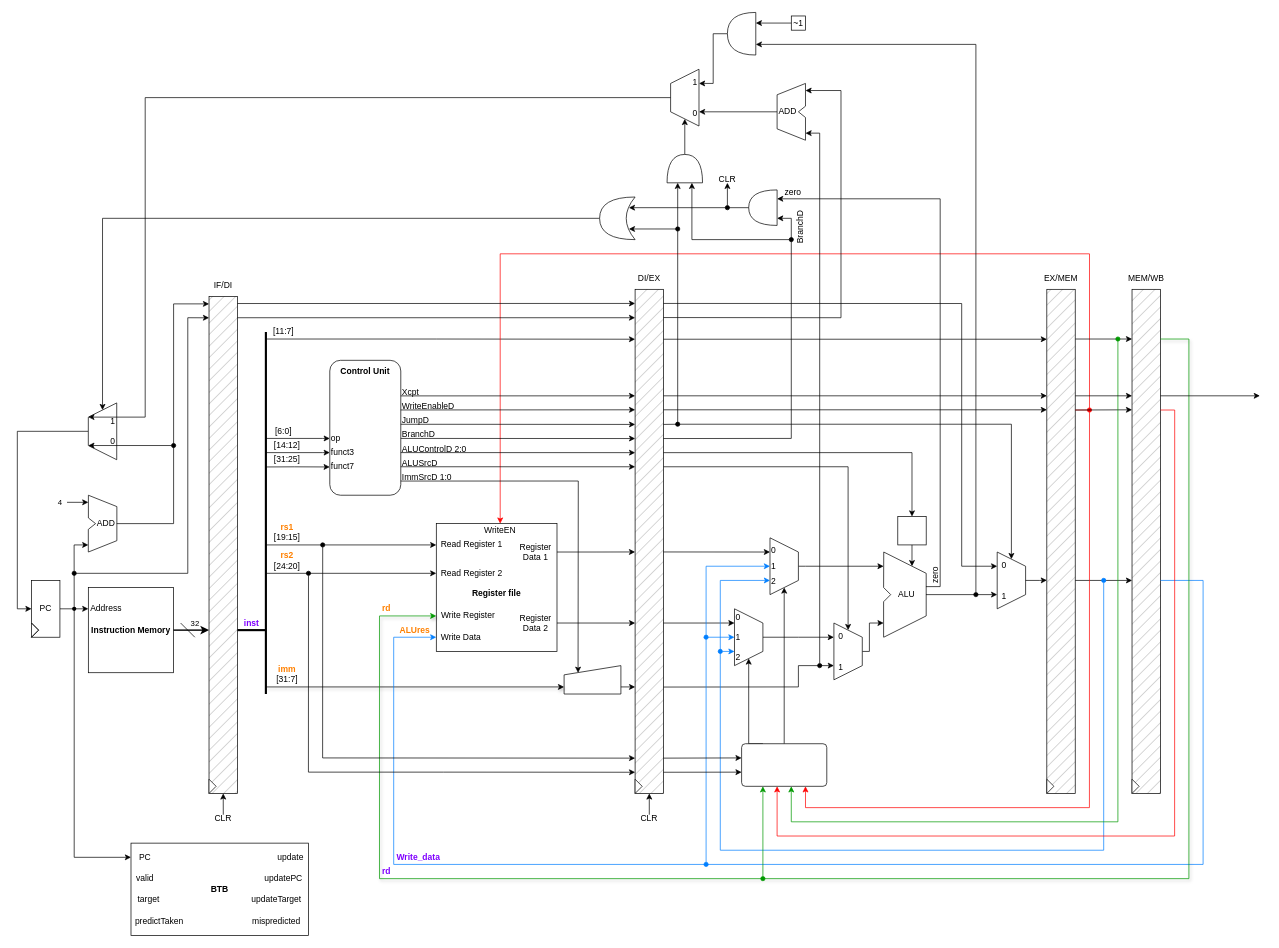
The diagram is 1279 pixels wide and 948 high, and some of its shapes have lost their labels. Here are the shapes that lost their labels. From the top down, the centre of each, then its label:
(911,530): ALU control
(592,679): Sign extend
(784,764): ForwardUnit
